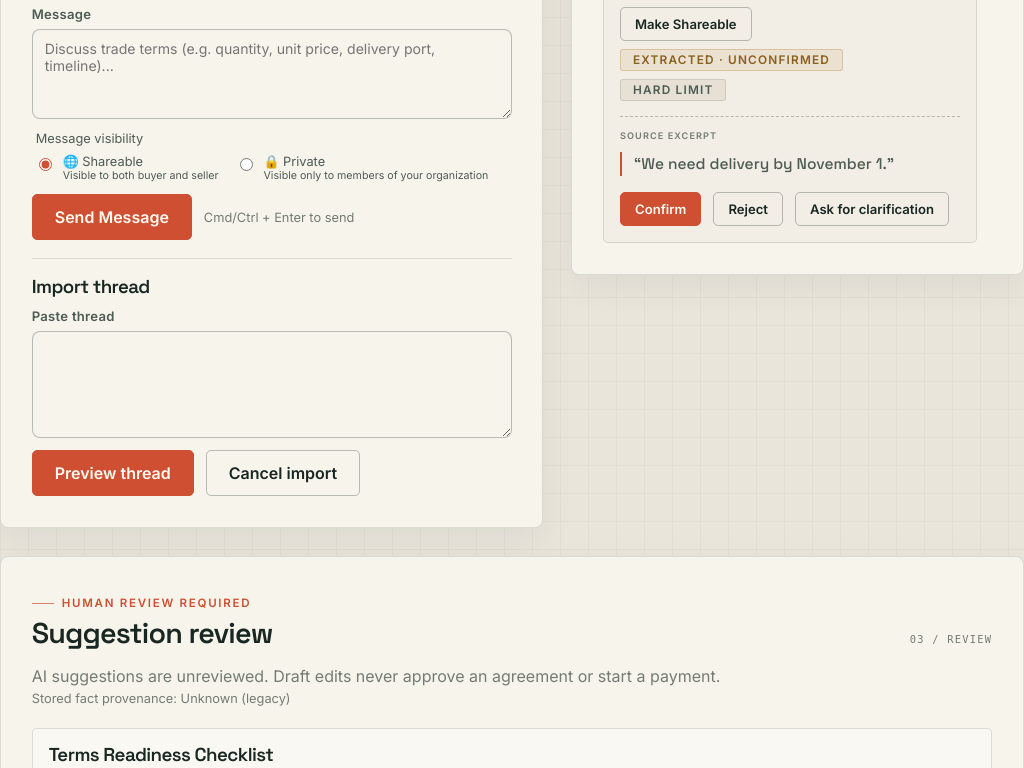
it: DealConversationReview › requires separate sharing confirmation and preserves drafts after stale/import errors
(page scrolled)
In the text box labelled "Paste thread": (272, 385) x1=32 y1=332 x2=512 y2=438, type " Terms "
Click the button "Preview thread": (113, 474) x1=32 y1=450 x2=194 y2=496
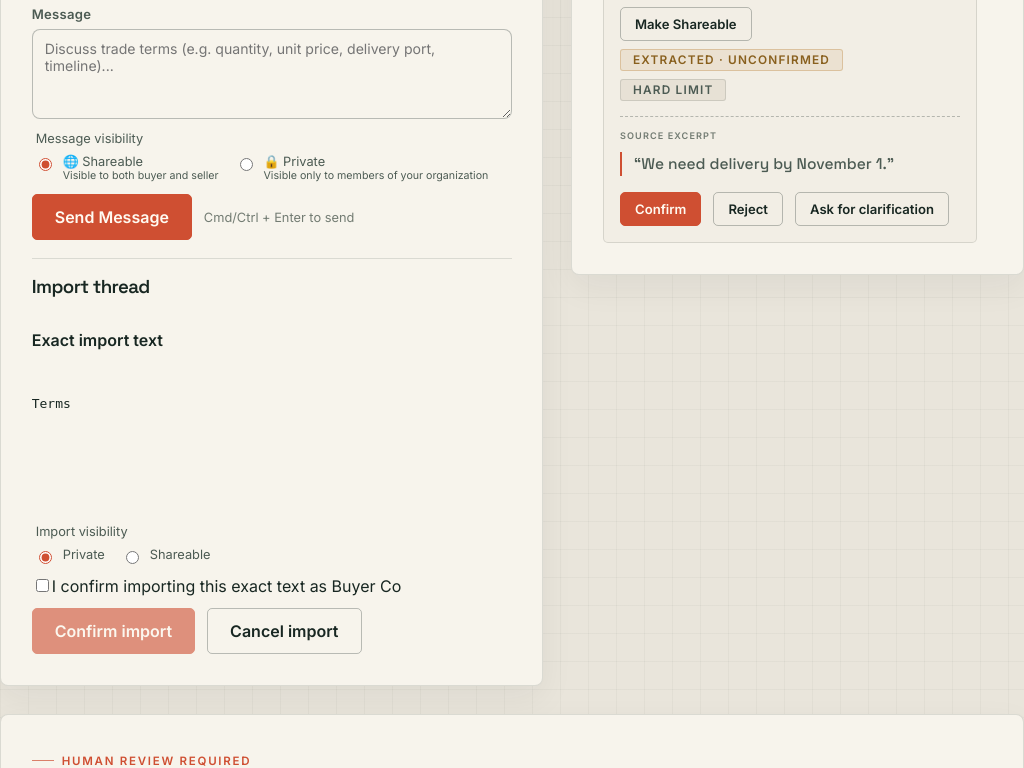
Click the radio button labelled "Shareable": (132, 558) x1=126 y1=551 x2=139 y2=564
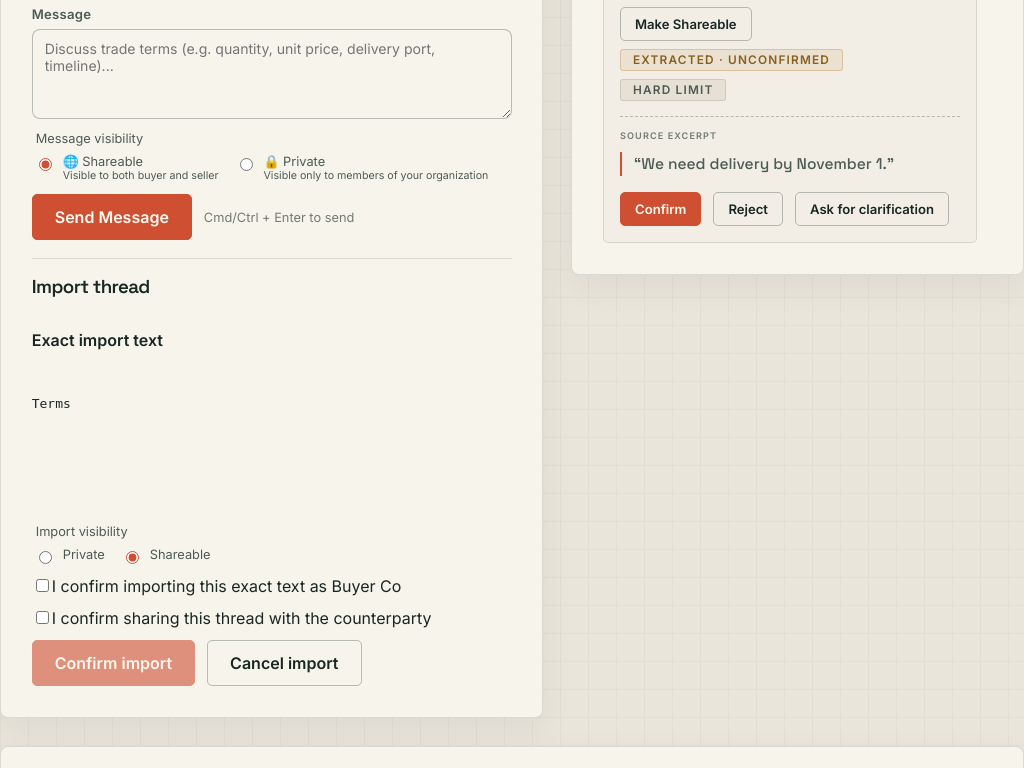
Click the checkbox labelled "I confirm importing this exact text as Buyer Co": (42, 586) x1=36 y1=579 x2=49 y2=592
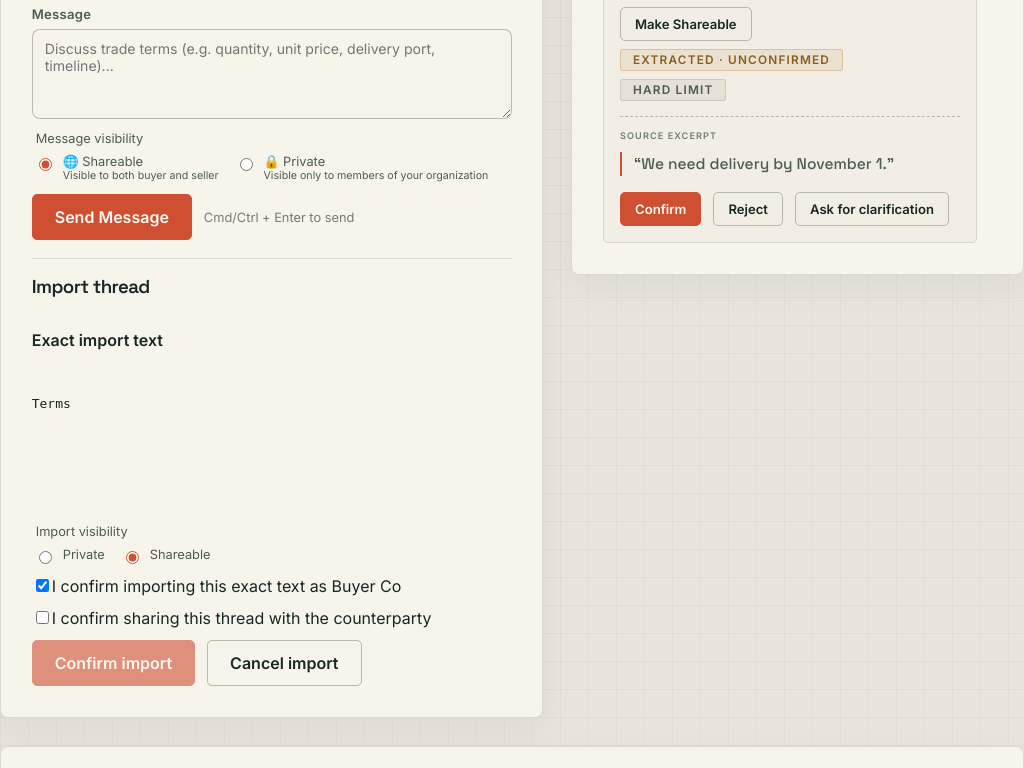
Now the button "Confirm import" is disabled, box x1=32 y1=640 x2=195 y2=686
Click the checkbox labelled "I confirm sharing this thread with the counterparty": (42, 618) x1=36 y1=611 x2=49 y2=624
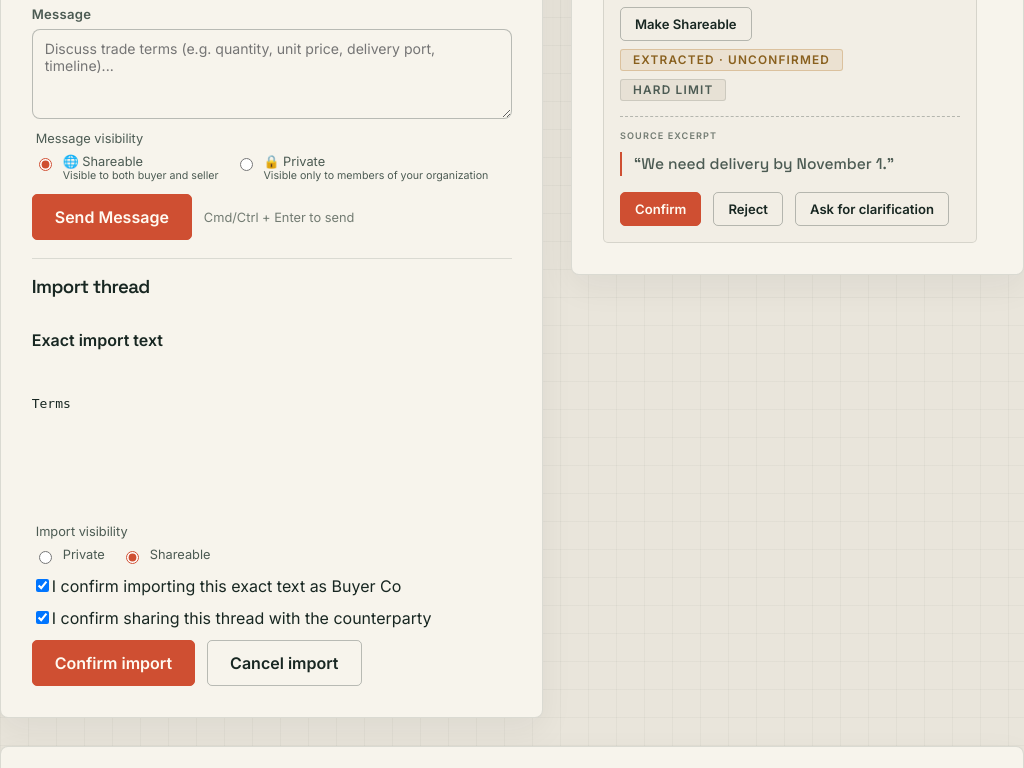
Click the button "Confirm import": (113, 663) x1=32 y1=640 x2=195 y2=686
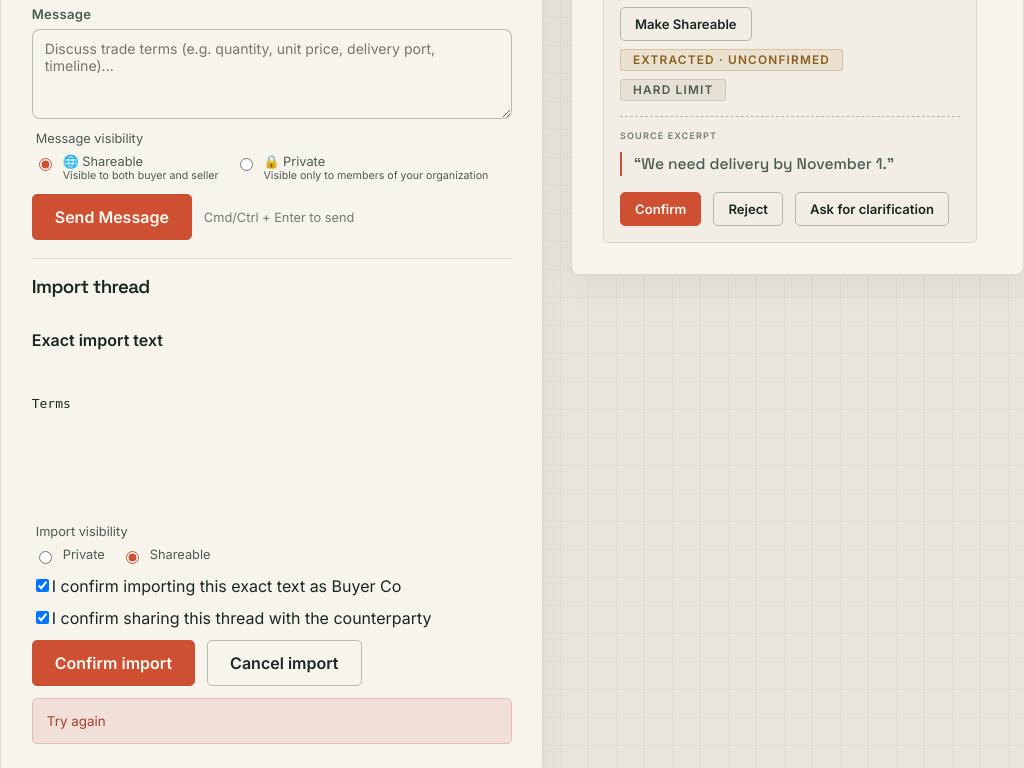
Now the text named "Exact import text" reads "Terms", box x1=32 y1=396 x2=71 y2=411
Now the message reads "Try again", box x1=47 y1=713 x2=106 y2=729
Click the button "Confirm import": (113, 663) x1=32 y1=640 x2=195 y2=686
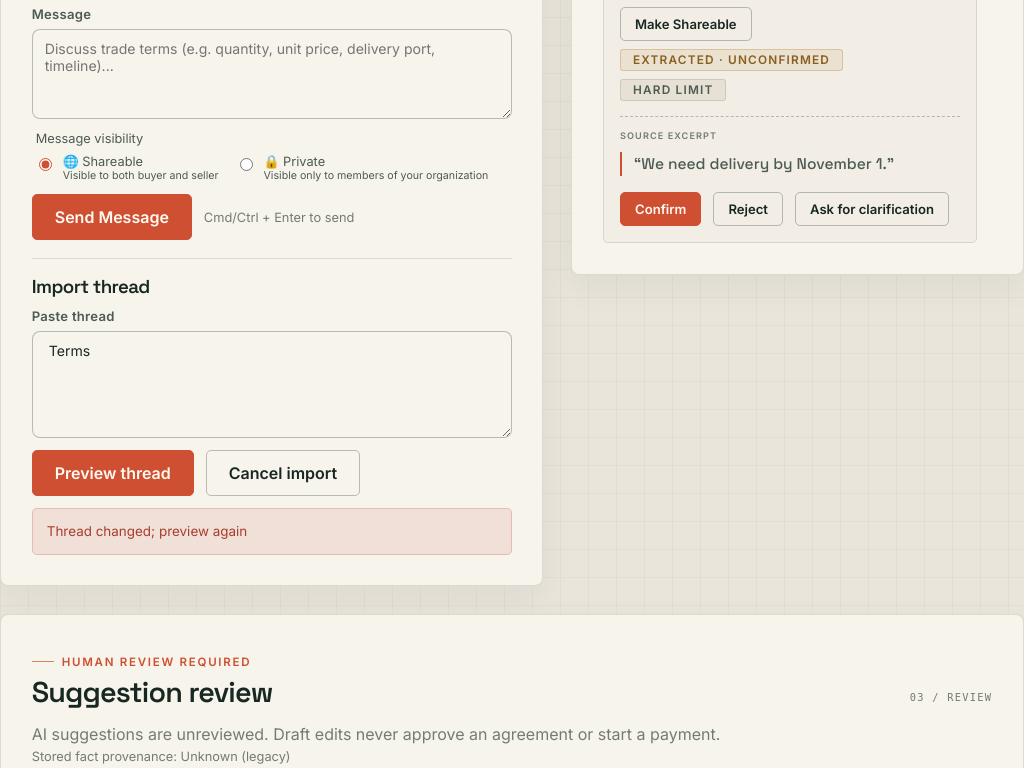
Now the text box labelled "Paste thread" holds " Terms ", box x1=32 y1=332 x2=512 y2=438
Now the message shows "Thread changed", box x1=47 y1=524 x2=247 y2=540
